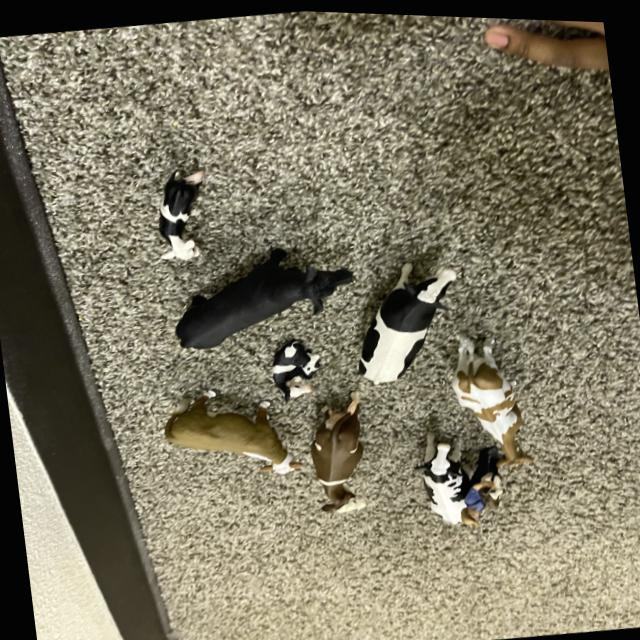cow: (160, 226, 361, 355), (430, 317, 551, 474), (344, 243, 465, 392), (160, 380, 313, 476), (306, 389, 368, 510), (411, 426, 471, 525), (257, 331, 330, 407), (158, 168, 202, 259), (481, 466, 505, 507)
person: (459, 471, 490, 523)
